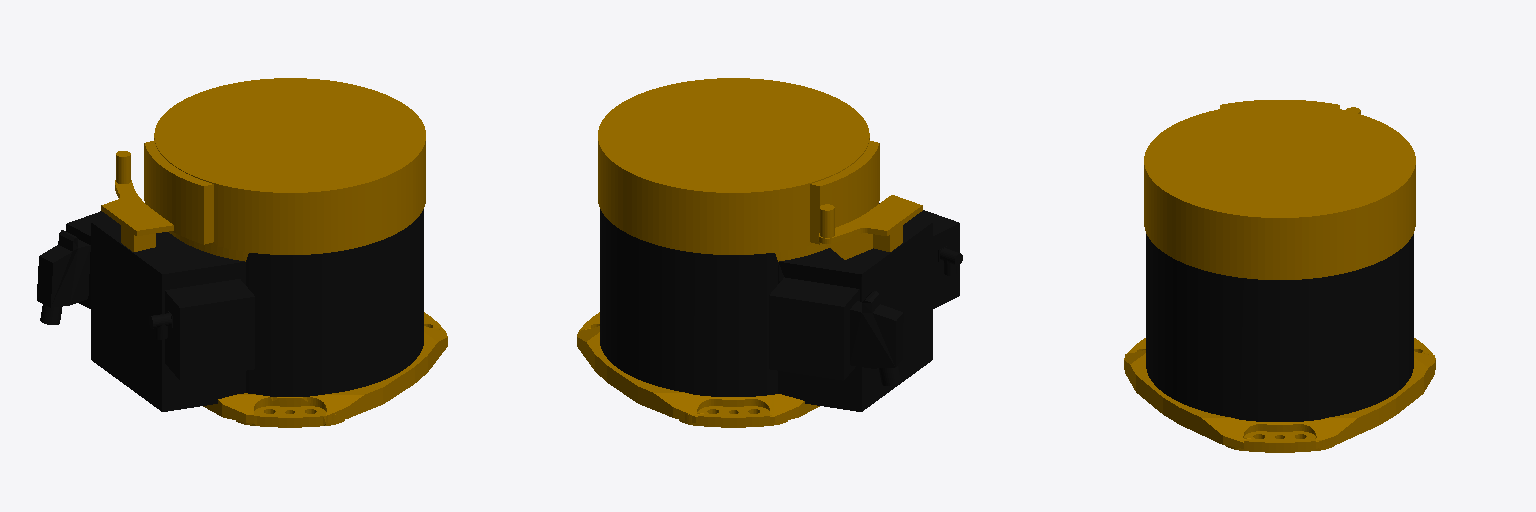
The picture shows the model from 3 angles: view 1: azimuth 30°, elevation 25°; view 2: azimuth 150°, elevation 25°; view 3: azimuth 270°, elevation 25°; orthographic projection.
Parts seen in each view (by area): view 1: kr60_1_kr60_3.001; view 2: kr60_1_kr60_3.001; view 3: kr60_1_kr60_3.001.
Boxes of the visible parts, box(x1,y1,x2,y2) form: kr60_1_kr60_3.001: box(37, 78, 447, 427); kr60_1_kr60_3.001: box(577, 78, 962, 427); kr60_1_kr60_3.001: box(1124, 100, 1435, 452).
Bounding box in the file's own units: 0.9539 × 0.5888 × 0.7411.